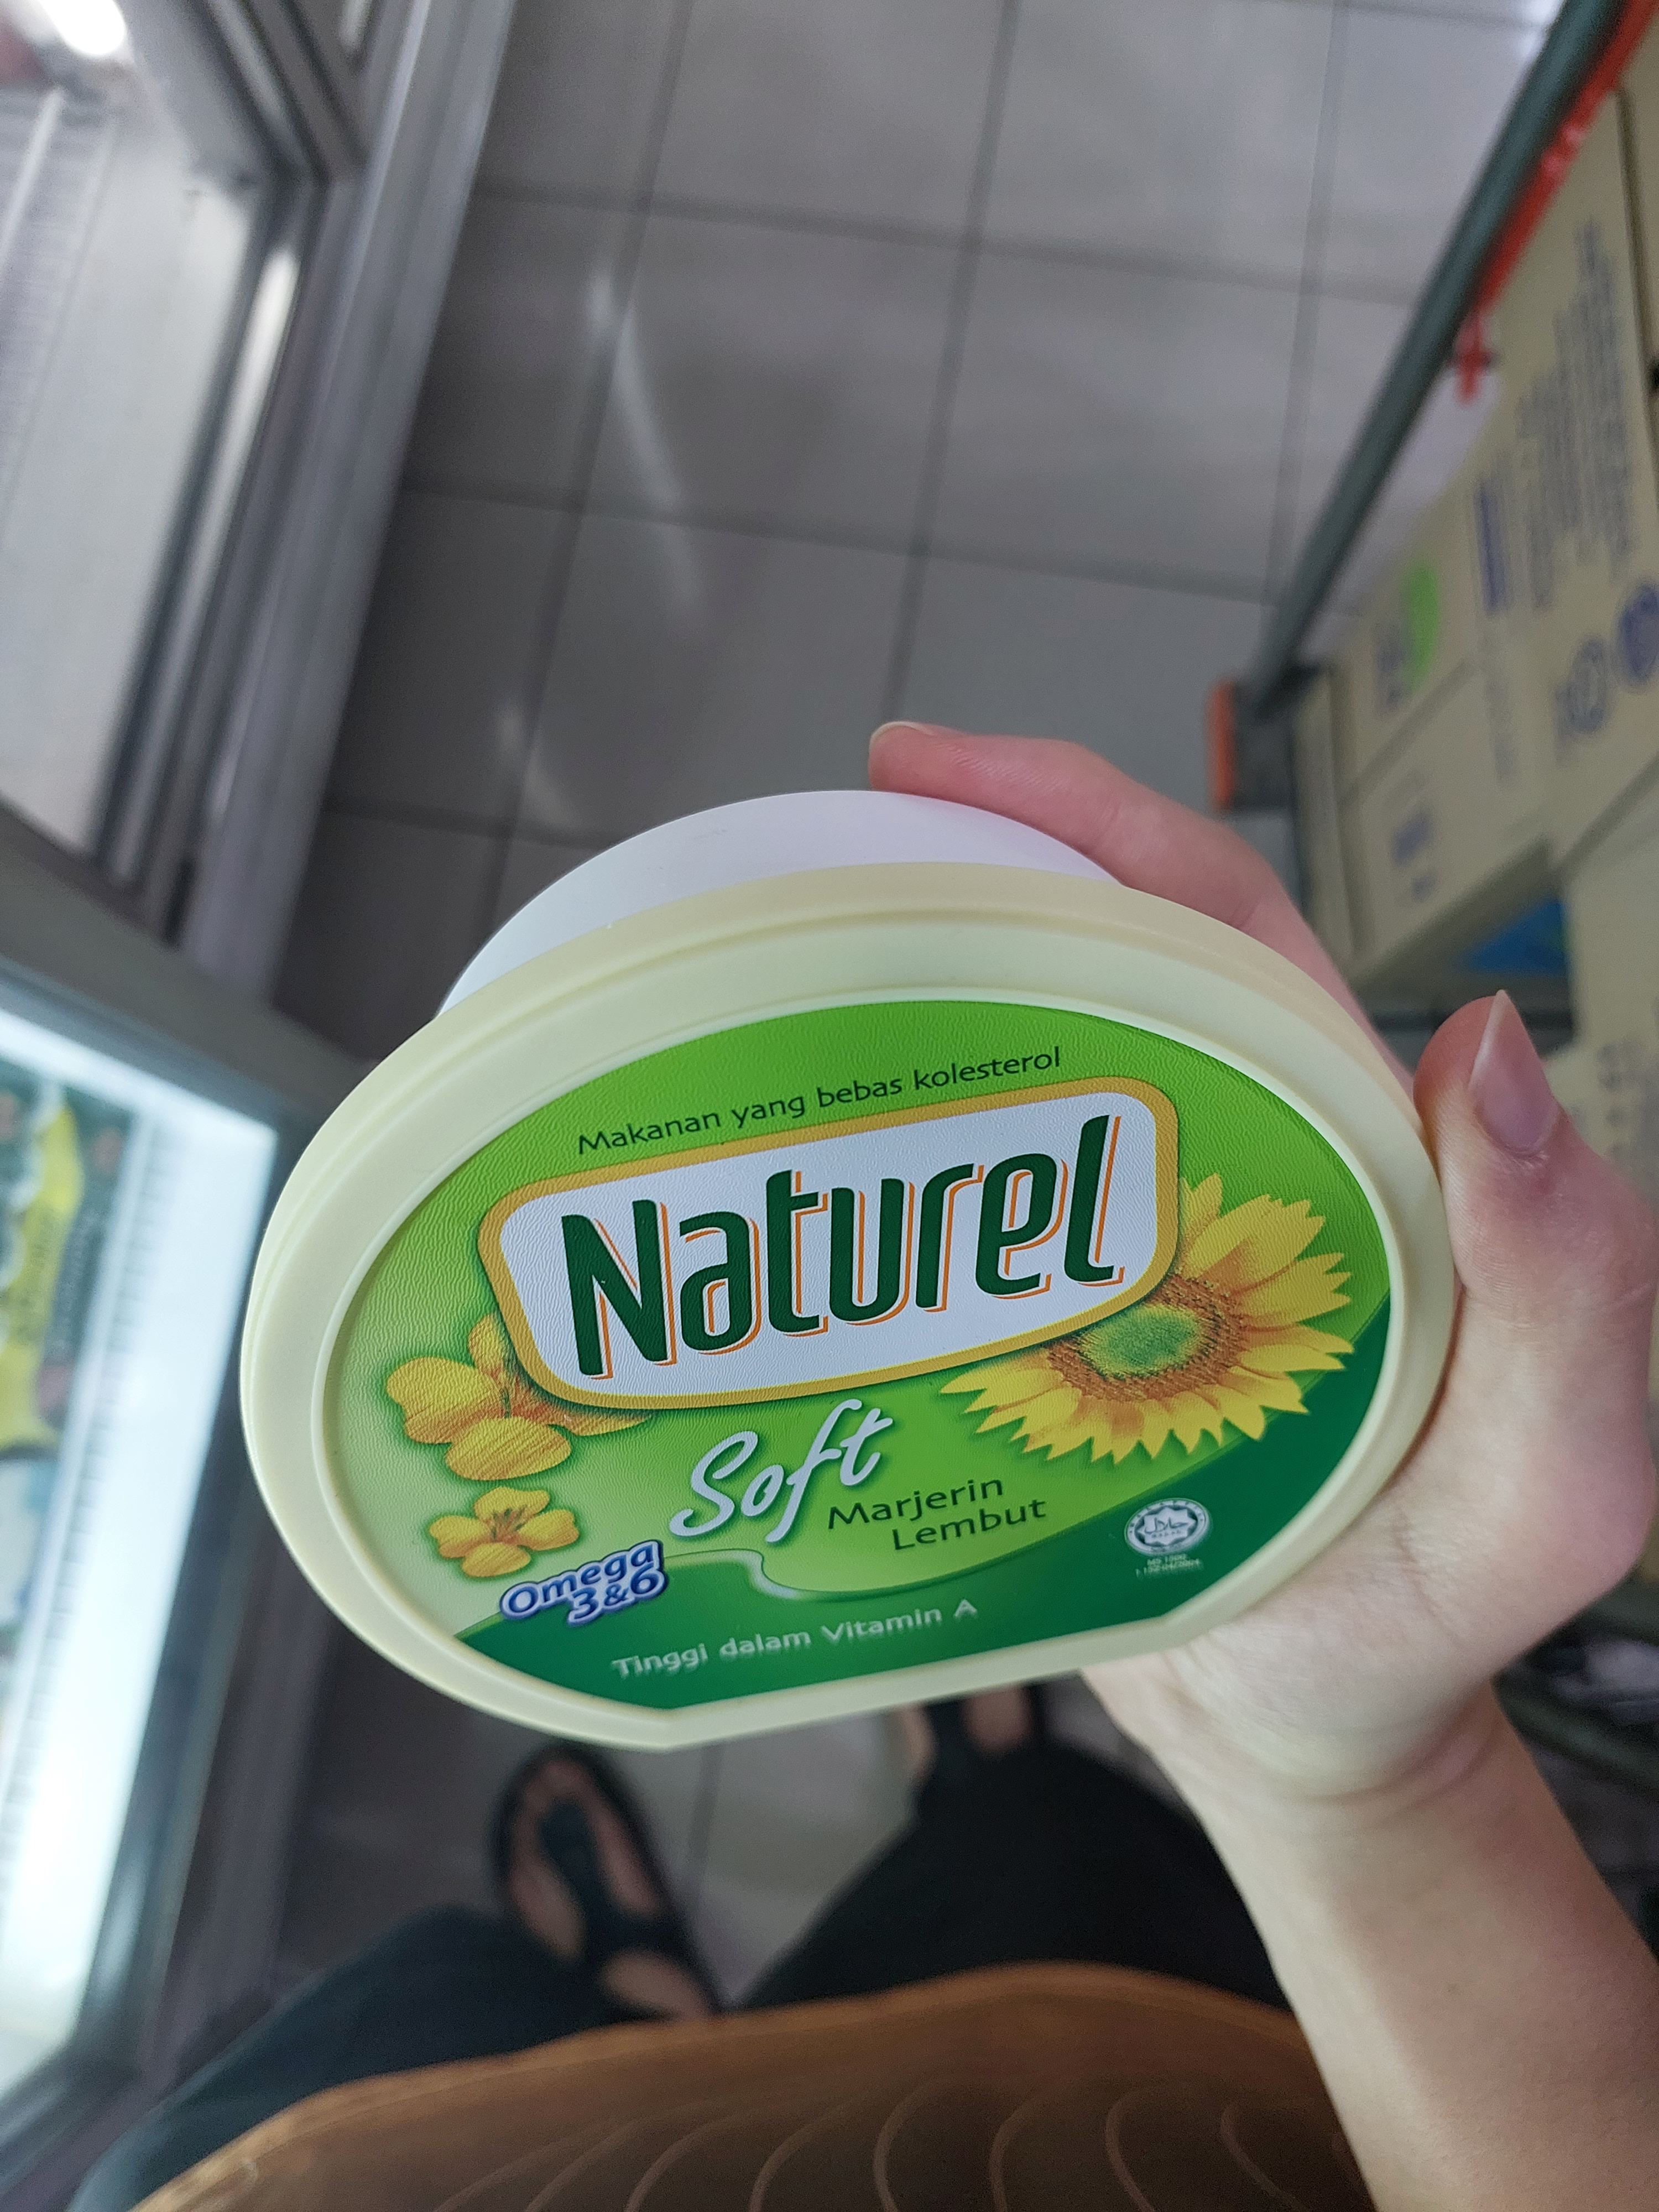butter: (232, 786, 1464, 1756)
